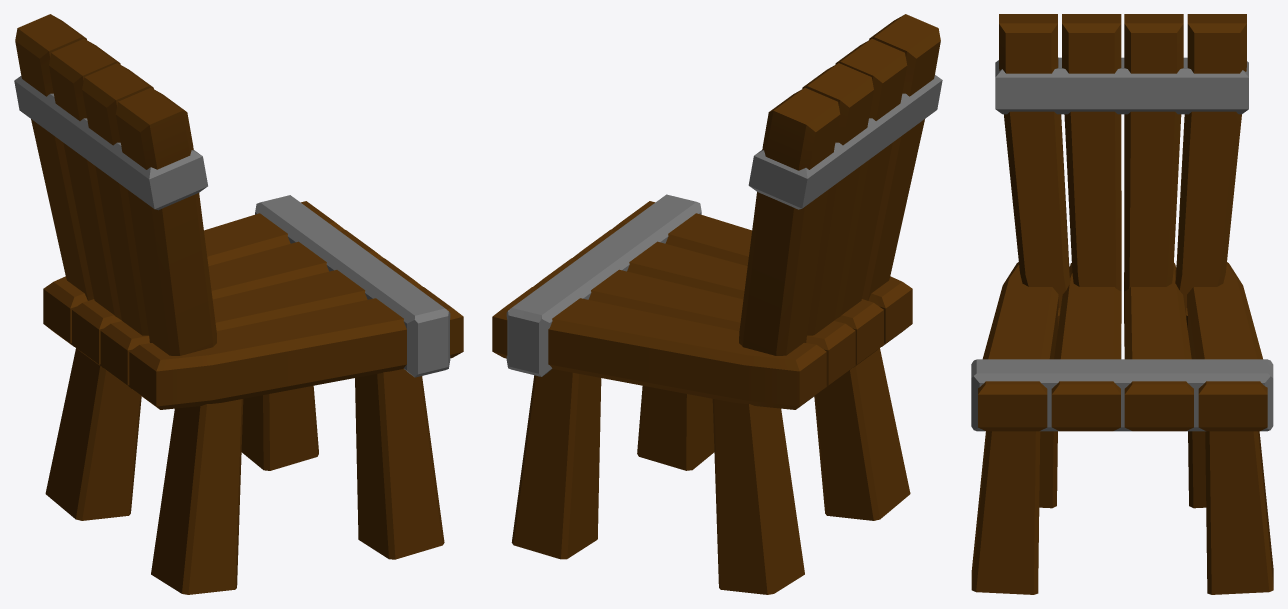
The model's file is Chair.fbx.
3 renders of one model, left to right at view 1: azimuth 30°, elevation 25°; view 2: azimuth 150°, elevation 25°; view 3: azimuth 270°, elevation 25°, orthographic. The views are drawn at different scales.
Visible parts, largest first — view 1: pCube32; view 2: pCube32; view 3: pCube32.
Part boxes in pixels (bbox=[...]): pCube32: bbox=[14, 14, 463, 594]; pCube32: bbox=[492, 14, 942, 594]; pCube32: bbox=[971, 14, 1273, 594].
Size of the model in its own units: 184 by 279 by 166.
